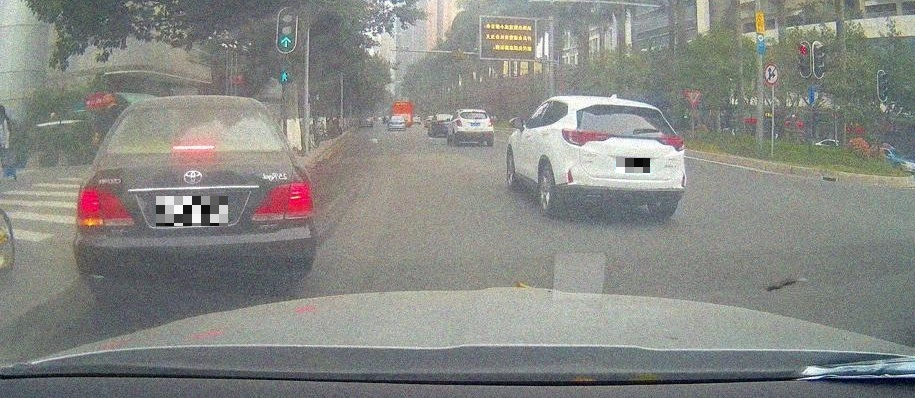L_light: (76, 189, 135, 227), (562, 128, 611, 147), (455, 119, 462, 127)
R_light: (251, 181, 314, 221), (656, 134, 685, 151), (487, 119, 492, 127)
T_light: (172, 144, 215, 151), (619, 105, 633, 109), (472, 112, 479, 114)
day-brake: (72, 95, 318, 286)
day-no: (561, 97, 687, 219), (455, 109, 494, 146)
plate_1: (156, 196, 228, 226)
plate_2: (616, 158, 650, 173)
